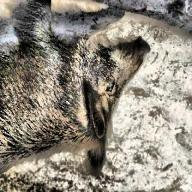boar: (5, 0, 190, 182)
